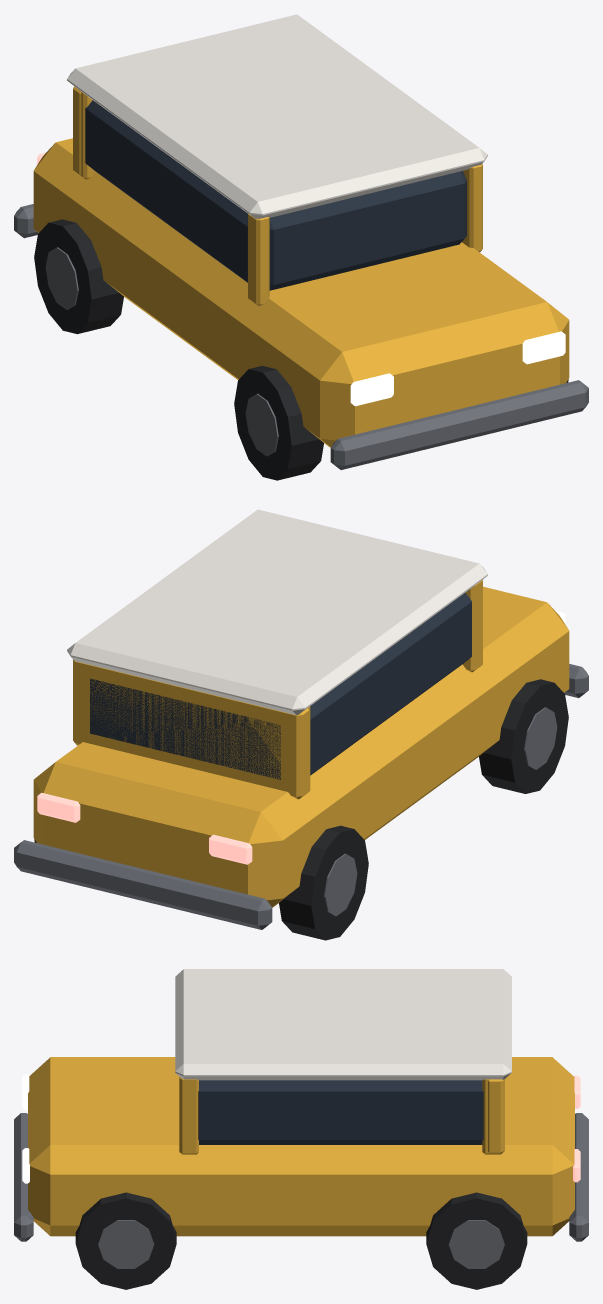
File: carro_amarelo.glb
3 views of the same model, one above another, from view 1: azimuth 30°, elevation 25°; view 2: azimuth 150°, elevation 25°; view 3: azimuth 270°, elevation 25° (orthographic). The views are drawn at different scales.
Parts seen in each view (by area): view 1: carro_amarelo_00, carro_amarelo_02, carro_amarelo_01, carro_amarelo_03, carro_amarelo_06, carro_amarelo_04; view 2: carro_amarelo_00, carro_amarelo_02, carro_amarelo_01, carro_amarelo_03, carro_amarelo_06, carro_amarelo_05; view 3: carro_amarelo_00, carro_amarelo_02, carro_amarelo_01, carro_amarelo_06, carro_amarelo_03, carro_amarelo_04, carro_amarelo_05.
Part boxes in pixels (x1,y1,x2,y2): carro_amarelo_00: (33,86,569,447); carro_amarelo_02: (67,14,487,218); carro_amarelo_01: (85,100,466,290); carro_amarelo_03: (14,204,588,469); carro_amarelo_06: (34,219,568,480); carro_amarelo_04: (350,331,565,406); carro_amarelo_00: (33,580,569,907); carro_amarelo_02: (67,509,487,715); carro_amarelo_01: (90,593,471,779); carro_amarelo_03: (14,664,588,929); carro_amarelo_06: (34,679,568,940); carro_amarelo_05: (37,792,252,864); carro_amarelo_00: (28,1057,574,1236); carro_amarelo_02: (175,969,511,1080); carro_amarelo_01: (198,1080,483,1144); carro_amarelo_06: (75,1192,527,1289); carro_amarelo_03: (14,1113,588,1268); carro_amarelo_04: (22,1074,29,1183); carro_amarelo_05: (573,1075,580,1182).
Size of the model in its own units: 2.02 by 1.68 by 4.1.
